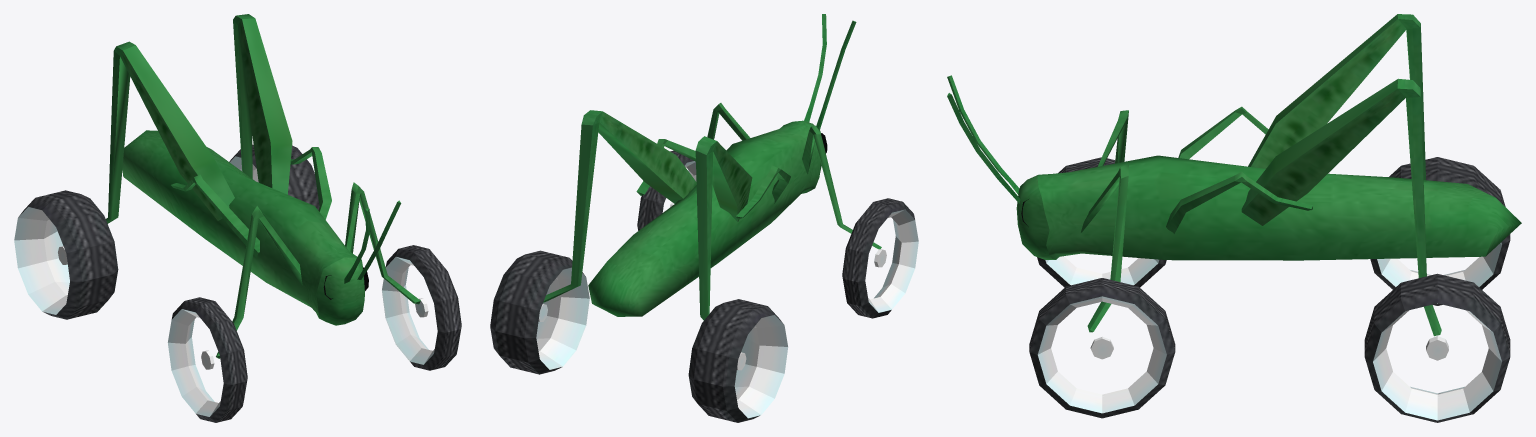
File: grasshopper.glb
3 renders of one model, left to right at view 1: azimuth 30°, elevation 25°; view 2: azimuth 150°, elevation 25°; view 3: azimuth 270°, elevation 25°, orthographic. The views are drawn at different scales.
Visible parts, largest first — view 1: wheel8 (×4), legs4, ZtoY, antenna64; view 2: wheel8 (×4), ZtoY, legs4, antenna64; view 3: ZtoY, wheel8 (×4), legs4, antenna64.
Boxes of the visible parts, bbox=[...] form: wheel8 (×4): bbox=[14, 144, 461, 422]; legs4: bbox=[106, 14, 420, 358]; ZtoY: bbox=[122, 130, 364, 325]; antenna64: bbox=[344, 200, 401, 283]; wheel8 (×4): bbox=[490, 150, 918, 422]; ZtoY: bbox=[588, 120, 821, 316]; legs4: bbox=[543, 103, 881, 320]; antenna64: bbox=[804, 14, 856, 129]; ZtoY: bbox=[1016, 155, 1521, 260]; wheel8 (×4): bbox=[1029, 157, 1510, 422]; legs4: bbox=[1081, 14, 1441, 336]; antenna64: bbox=[947, 75, 1020, 203].
Bounding box in the file's own units: 4.61 × 4.6 × 7.78.
6 materials, 6 textured.
